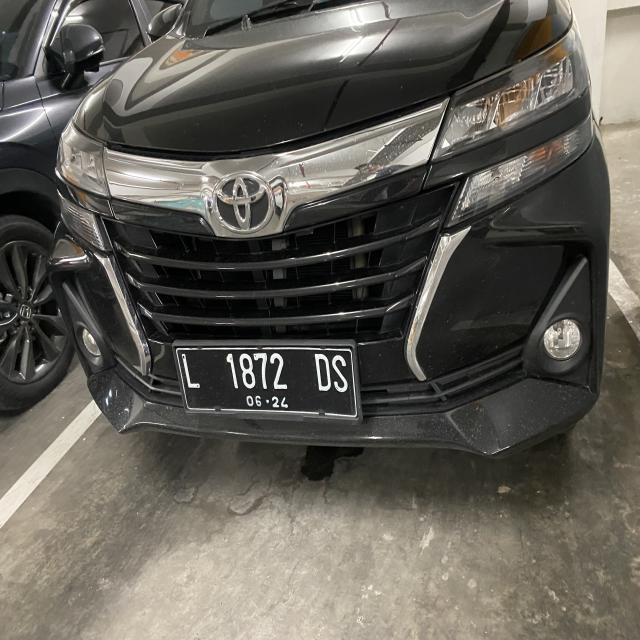1: (223, 350, 240, 390)
2: (270, 349, 289, 391)
7: (256, 352, 271, 393)
8: (240, 351, 256, 392)
D: (310, 348, 332, 396)
L: (179, 351, 204, 393)
S: (332, 348, 350, 394)
